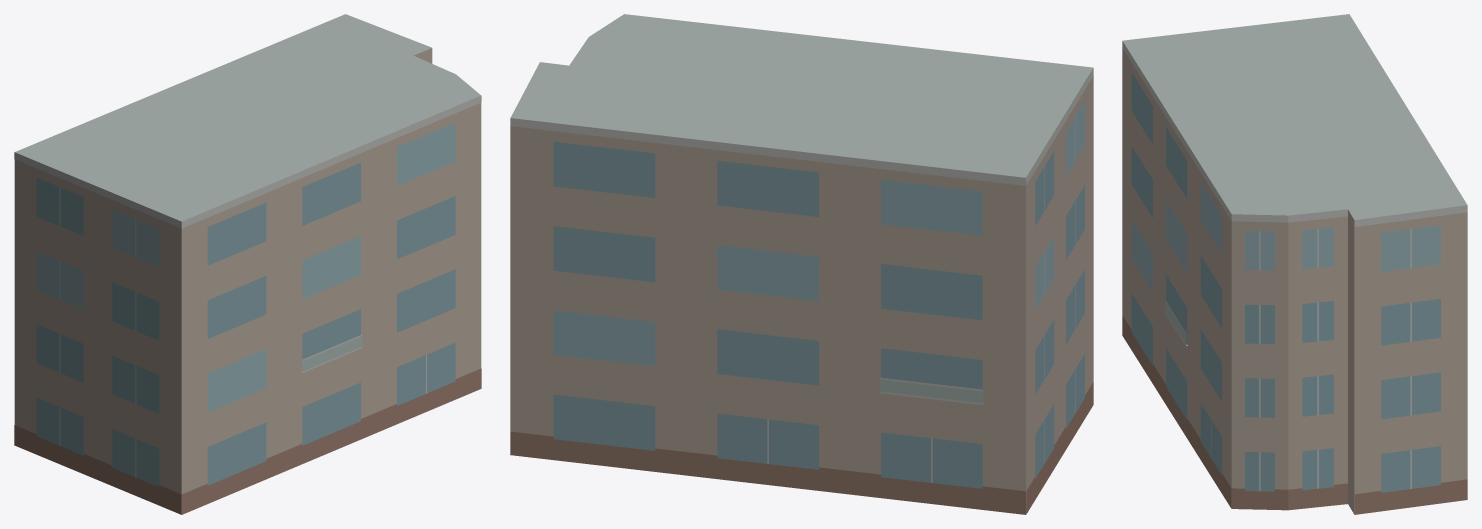
File: survey-upis-32960550.glb
3 views of the same model, side by side, from view 1: azimuth 30°, elevation 25°; view 2: azimuth 150°, elevation 25°; view 3: azimuth 270°, elevation 25° (orthographic). The views are drawn at different scales.
Visible parts, largest first — view 1: survey-upis-32960550.tmp; view 2: survey-upis-32960550.tmp; view 3: survey-upis-32960550.tmp.
Boxes of the visible parts, x1=… form: survey-upis-32960550.tmp: x1=14, y1=14, x2=481, y2=514; survey-upis-32960550.tmp: x1=510, y1=14, x2=1093, y2=514; survey-upis-32960550.tmp: x1=1122, y1=14, x2=1467, y2=514.
Size of the model in its own units: 15.31 by 10.2 by 10.84.
